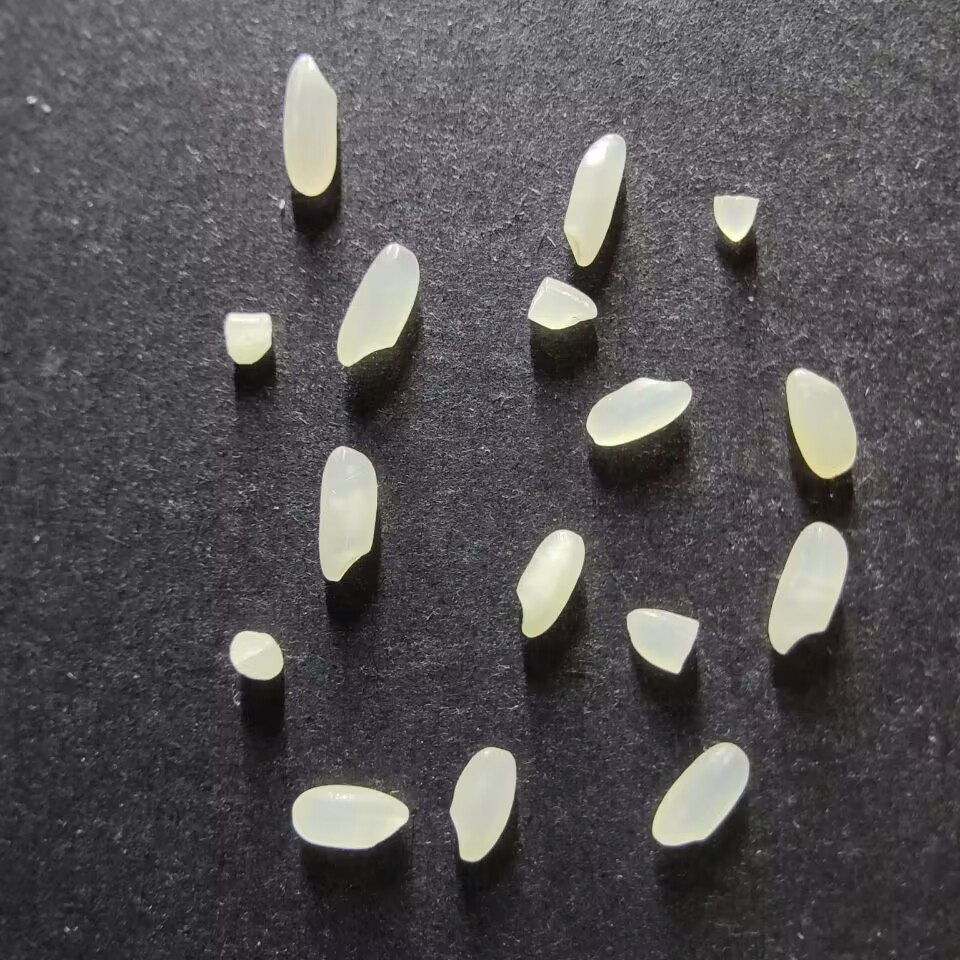broken: (625, 607, 700, 675), (525, 276, 597, 330), (228, 629, 284, 681), (223, 311, 272, 365), (711, 193, 760, 242)
rice: (767, 520, 849, 656), (650, 741, 750, 847), (336, 242, 420, 367), (561, 132, 627, 267), (316, 445, 377, 583), (785, 366, 858, 479), (280, 54, 337, 196), (448, 746, 516, 862), (290, 784, 409, 850), (516, 528, 585, 639), (585, 376, 693, 446)
